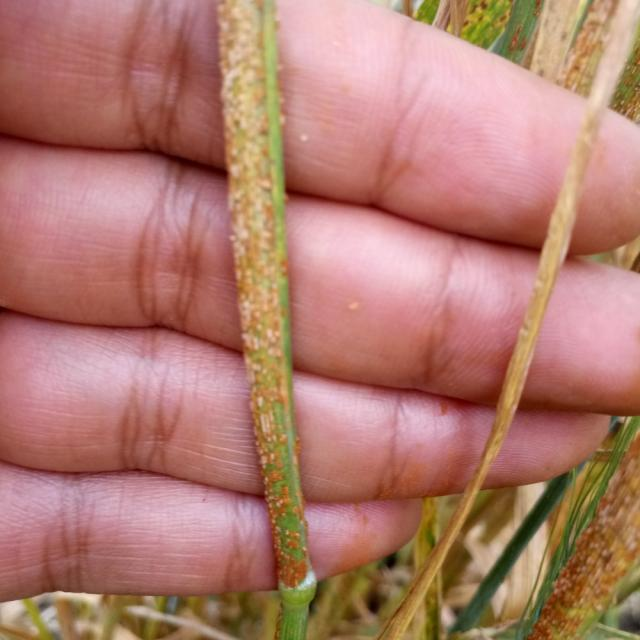wheat-stemrust: (216, 0, 316, 598), (526, 429, 640, 640)
